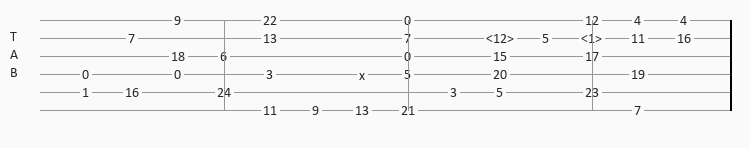0: (82, 68, 93, 81), (174, 68, 185, 81), (404, 50, 415, 63), (404, 14, 415, 27)
1: (82, 86, 93, 99)
11: (263, 104, 281, 117), (631, 32, 649, 45)
12: (585, 14, 603, 27)
13: (263, 32, 281, 45), (355, 104, 373, 117)
15: (493, 50, 511, 63)
16: (125, 86, 143, 99), (677, 32, 695, 45)
17: (585, 50, 603, 63)
18: (171, 50, 189, 63)
19: (631, 68, 649, 81)
20: (493, 68, 511, 81)
21: (401, 104, 419, 117)
22: (263, 14, 281, 27)
23: (585, 86, 603, 99)
24: (217, 86, 235, 99)
3: (266, 68, 277, 81), (450, 86, 461, 99)
4: (634, 14, 645, 27), (680, 14, 691, 27)
5: (404, 68, 415, 81), (496, 86, 507, 99), (542, 32, 553, 45)
6: (220, 50, 231, 63)
7: (128, 32, 139, 45), (404, 32, 415, 45), (634, 104, 645, 117)
9: (174, 14, 185, 27), (312, 104, 323, 117)
harmonic: (486, 32, 518, 45), (581, 32, 606, 45)
x: (359, 69, 369, 80)
